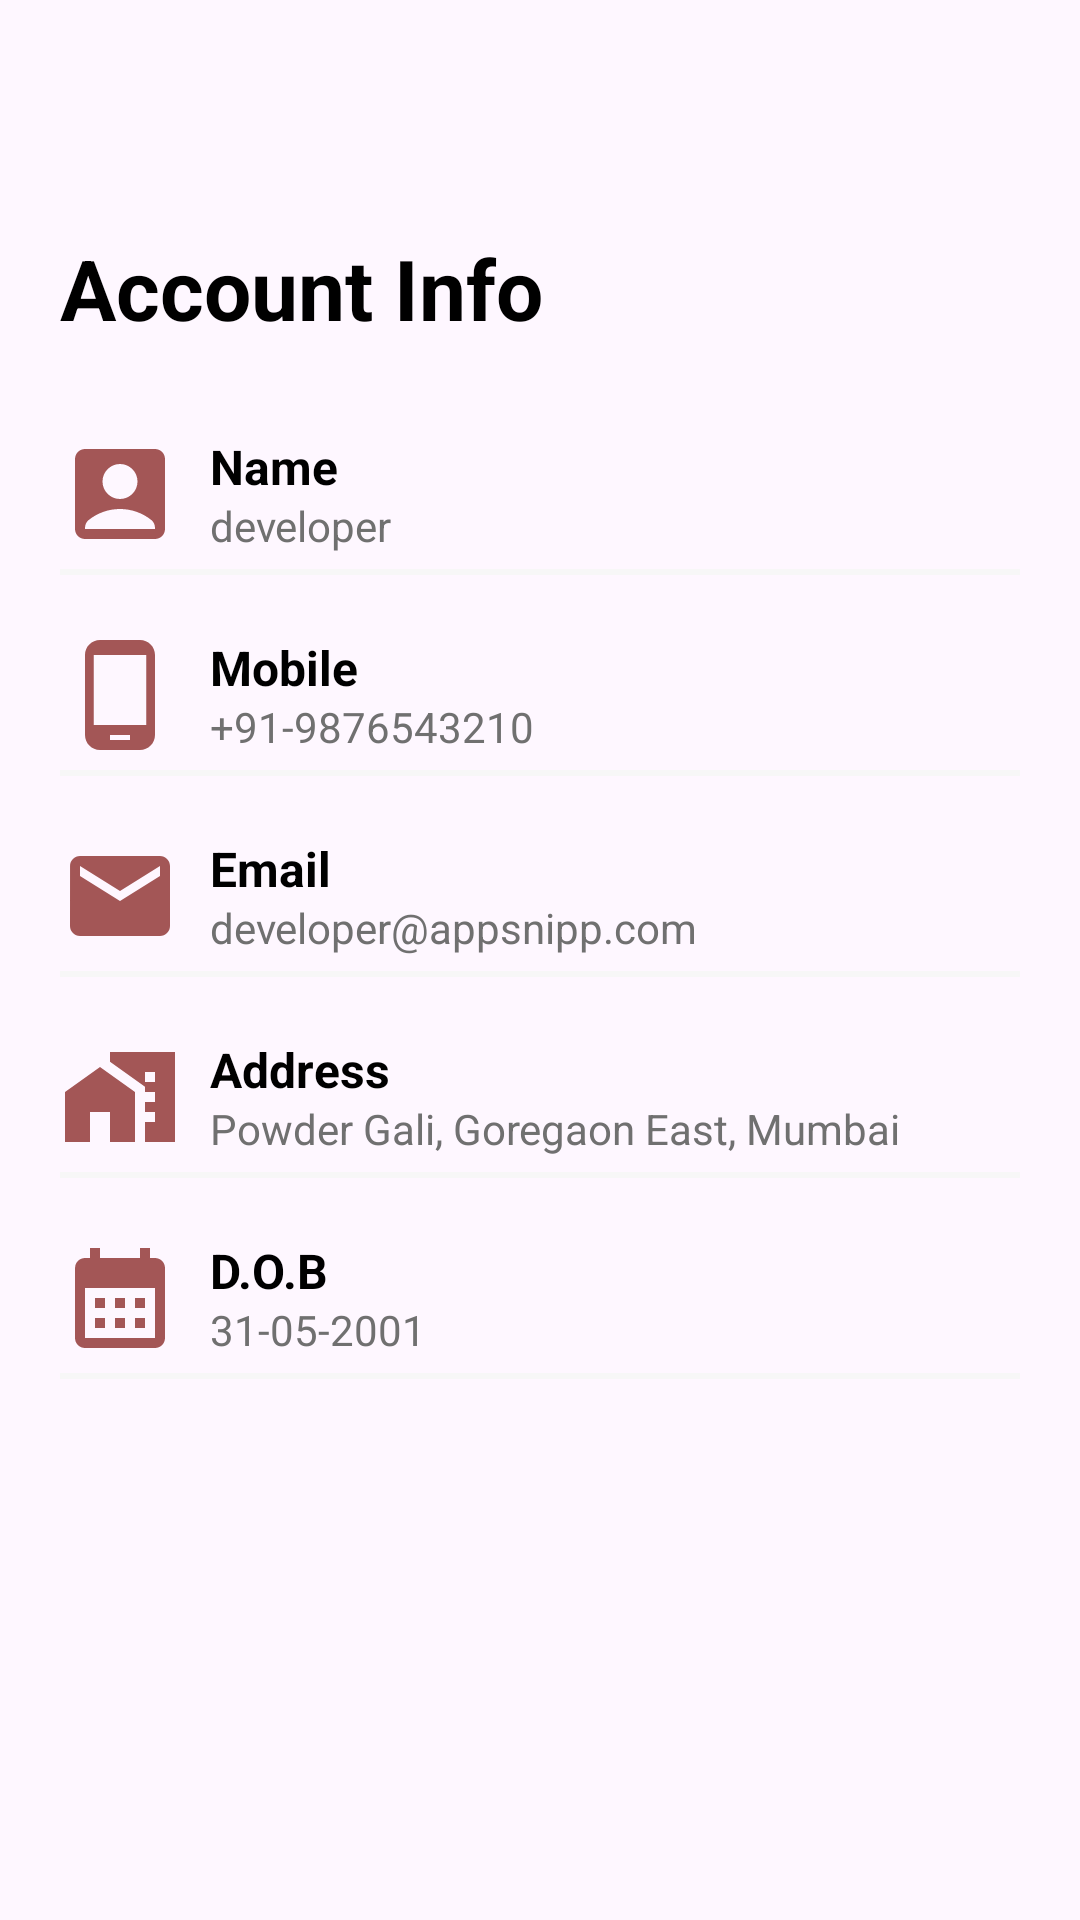

Screen size 1080 × 1920. Icon name, then its center in pixels as (x=x, y=y):
account box: (x=120, y=494)
calendar month: (x=120, y=1298)
maps home work: (x=120, y=1097)
phone android: (x=120, y=695)
